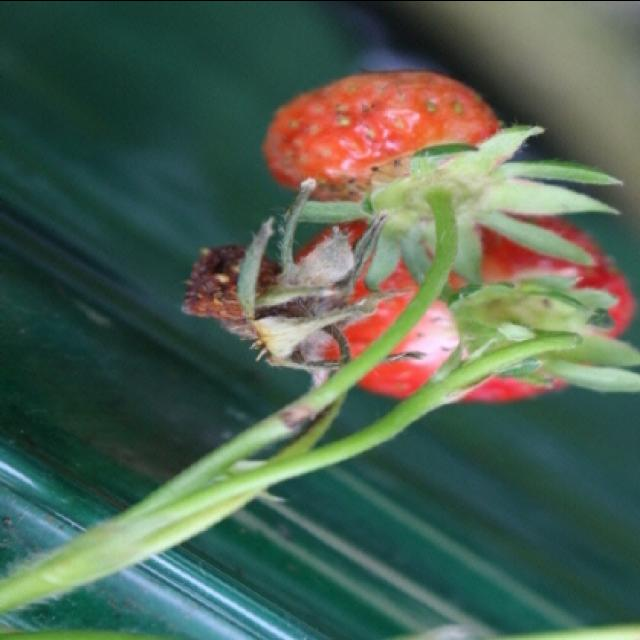Gray Mold: (180, 176, 398, 384)
